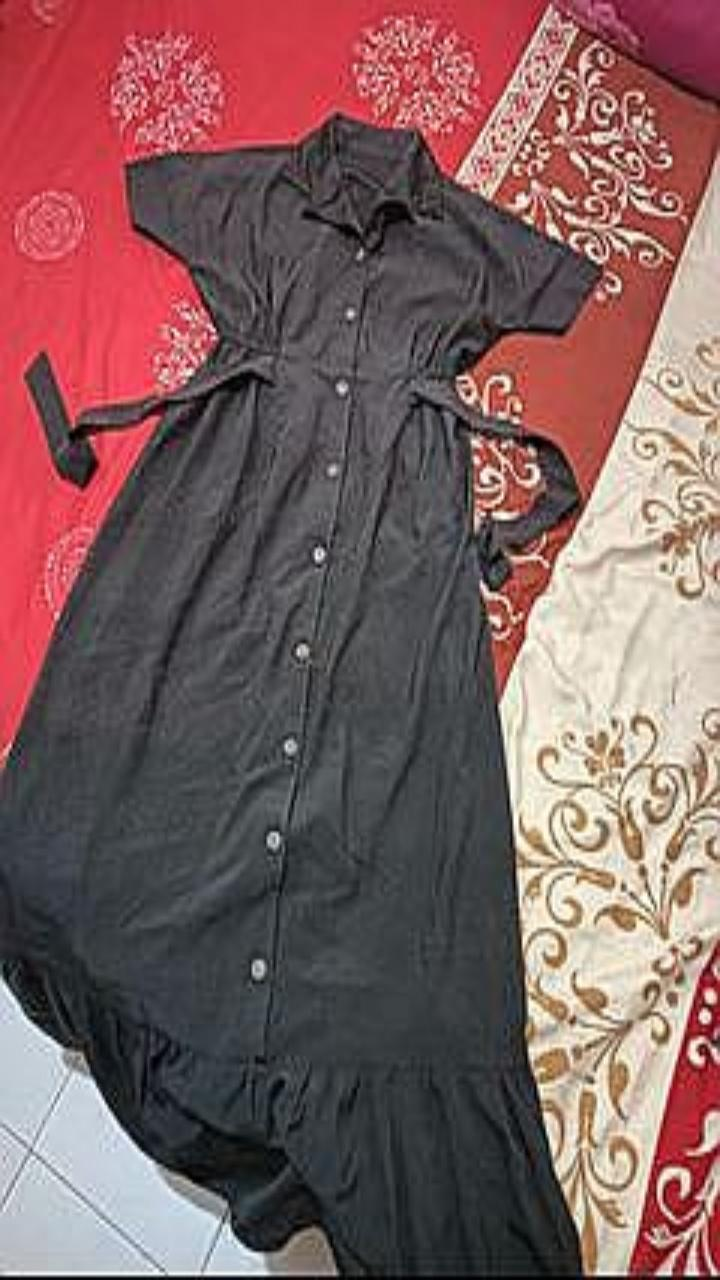Dresses: (0, 112, 598, 1274)
